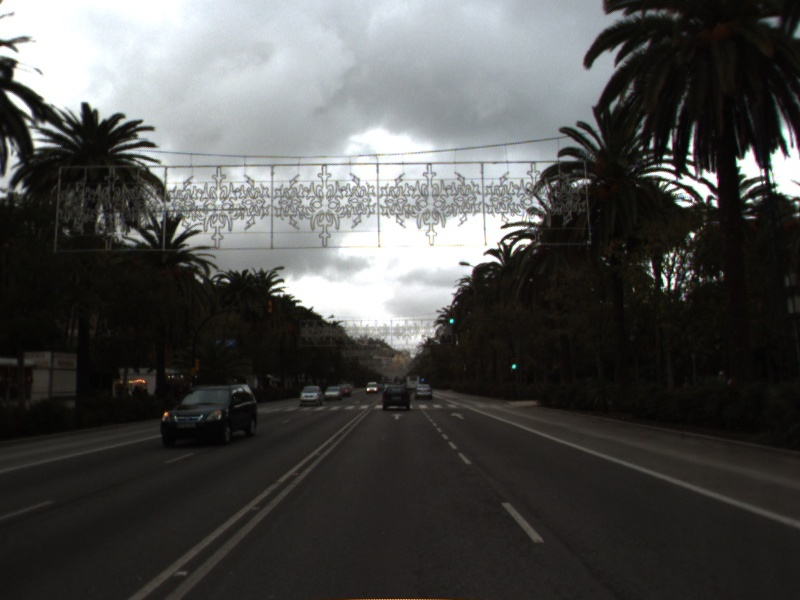STRAIGHT: (448, 410, 467, 421), (389, 411, 405, 422)
